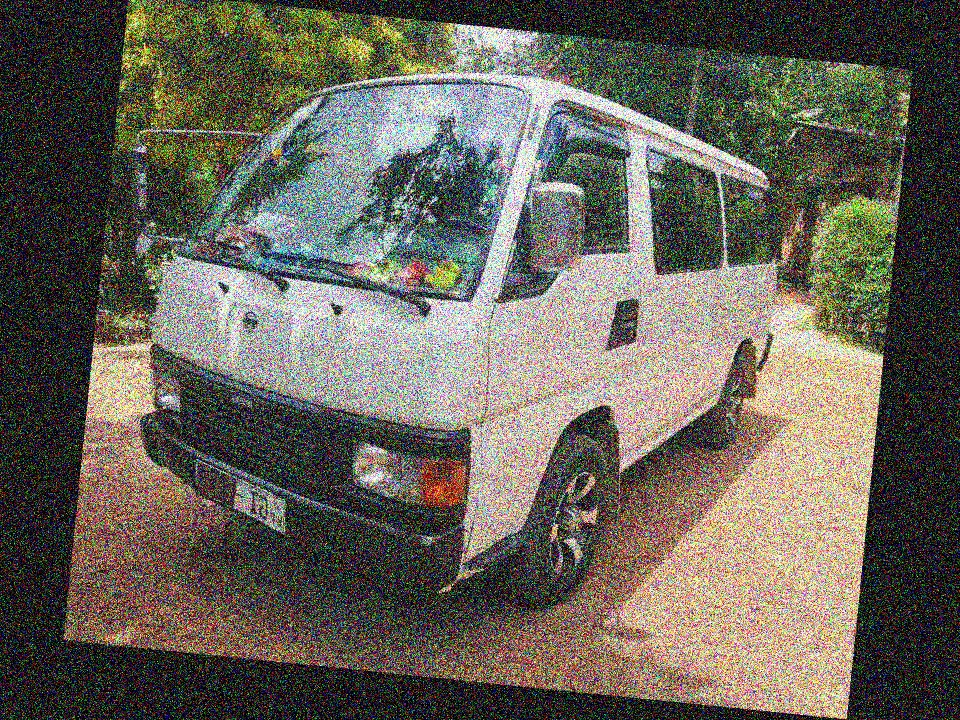van: (118, 35, 792, 605)
